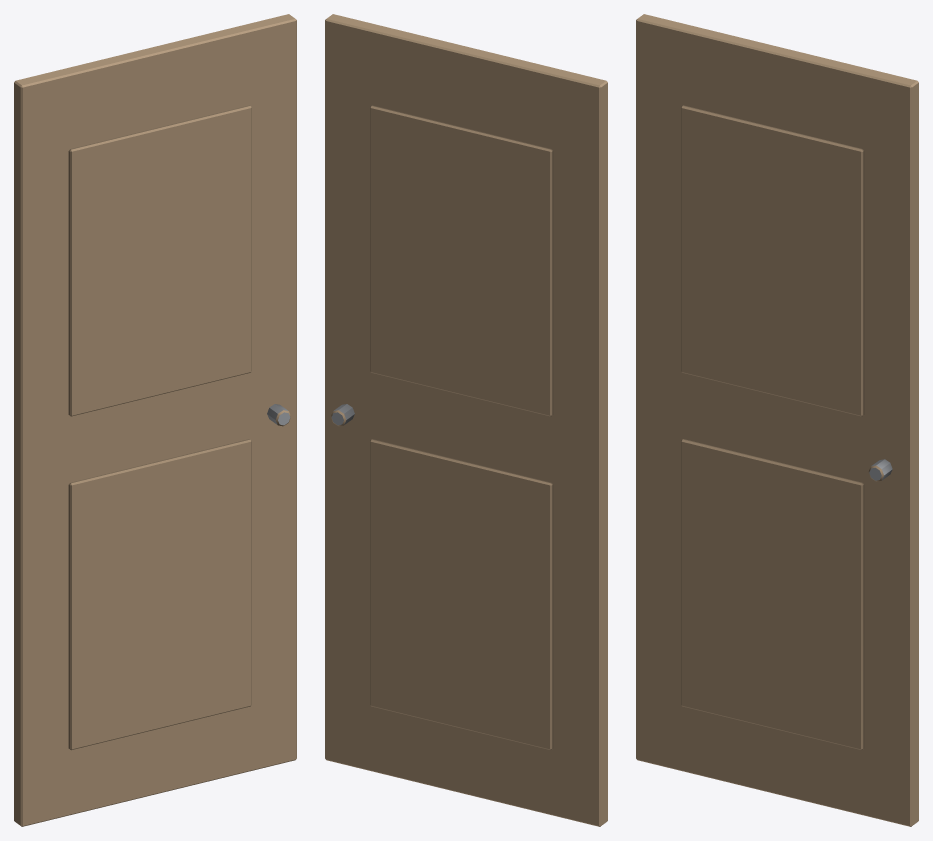
The model's file is door_inner.glb.
3 views of the same model, side by side, from view 1: azimuth 30°, elevation 25°; view 2: azimuth 150°, elevation 25°; view 3: azimuth 330°, elevation 25° (orthographic).
Parts seen in each view (by area): view 1: door_inner; view 2: door_inner; view 3: door_inner.
Part boxes in pixels (<box>): door_inner: <box>14,14,296,826</box>; door_inner: <box>325,14,607,826</box>; door_inner: <box>636,14,918,826</box>.
Size of the model in its own units: 0.78 by 2 by 0.15.
